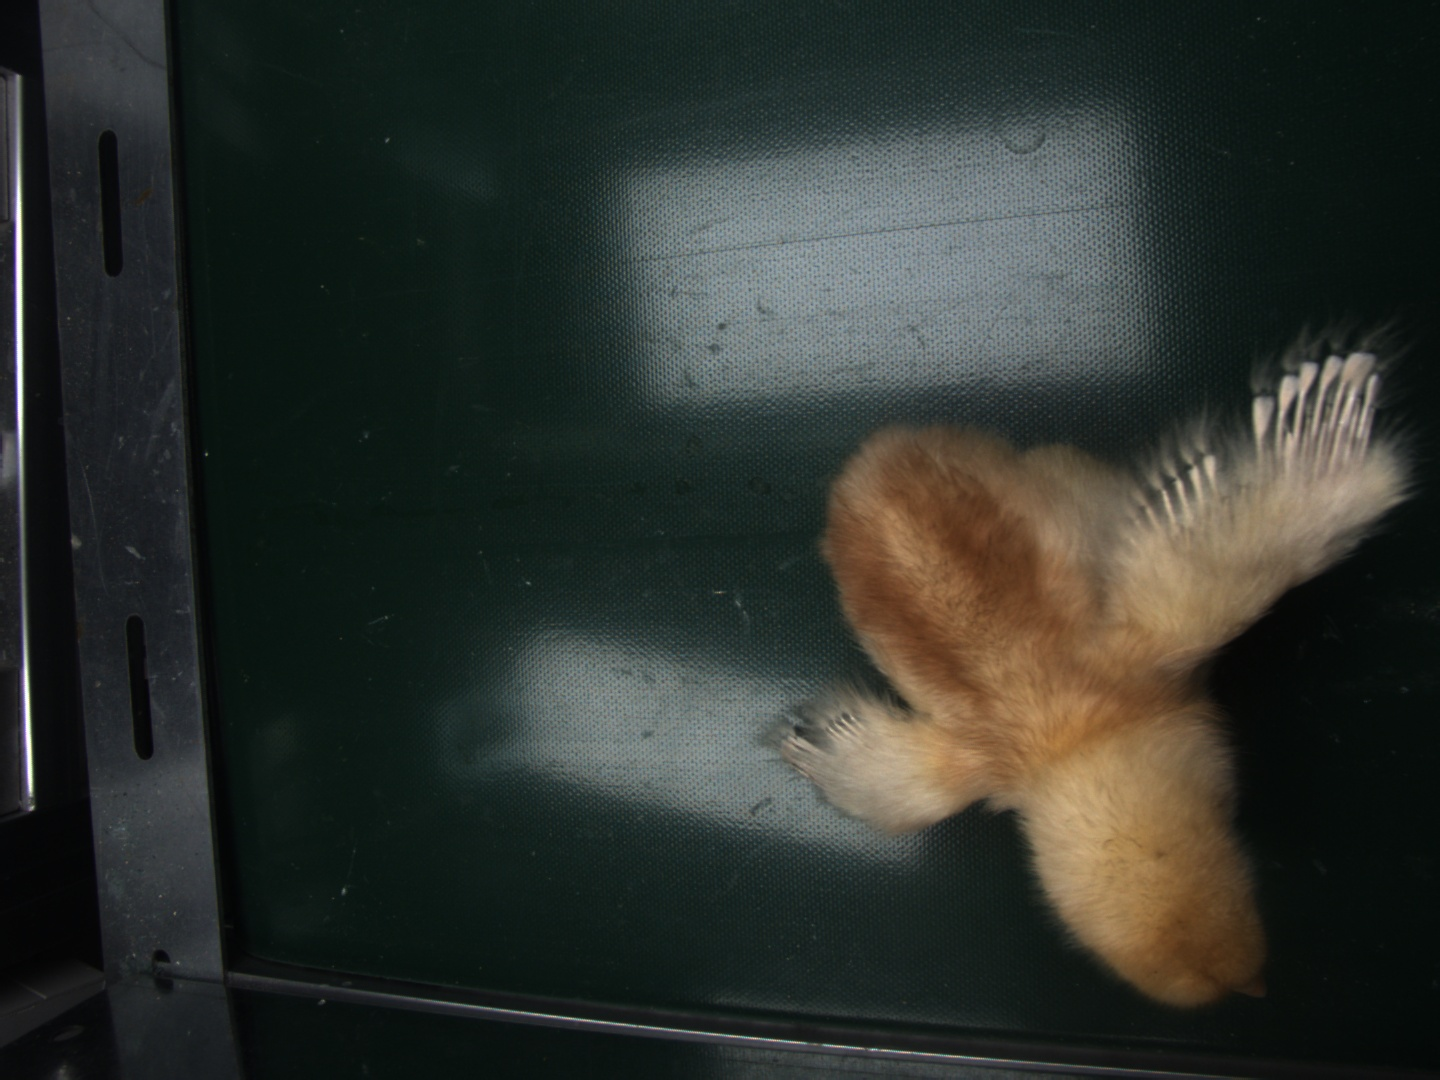female: (1267, 351, 1384, 453)
